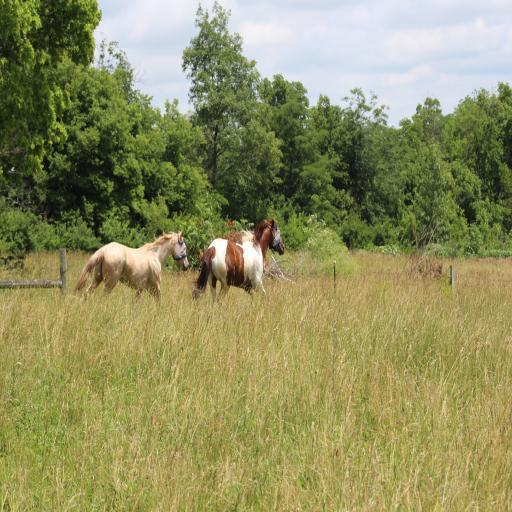horse: (74, 228, 190, 300), (192, 218, 288, 302)
